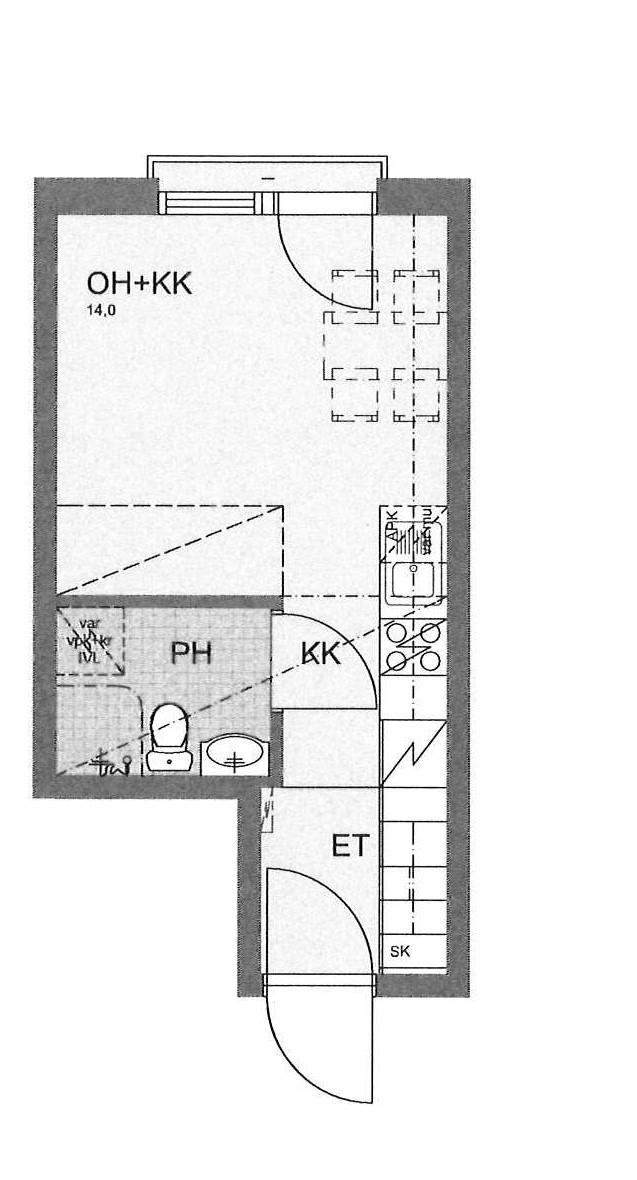bathroom: (52, 598, 271, 780)
door: (269, 189, 391, 320), (261, 973, 379, 1105), (263, 863, 374, 990), (263, 611, 384, 717)
perimeter: (31, 179, 467, 996)
window: (154, 187, 276, 220)
